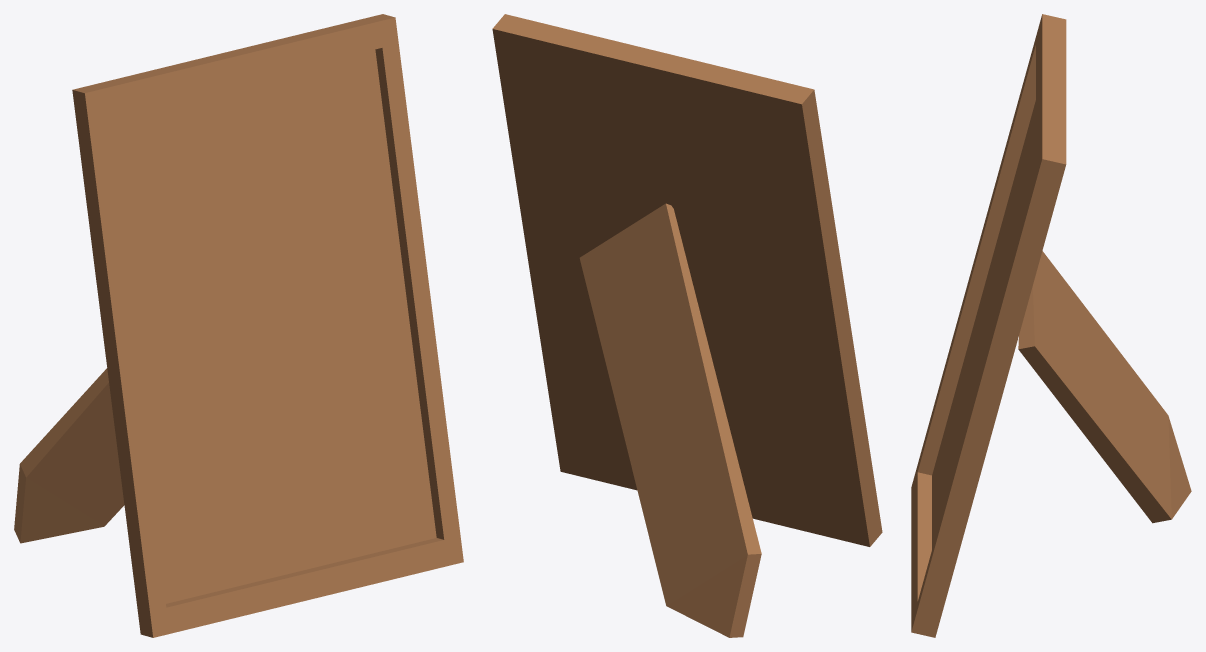
File: Retrato.fbx
3 views of the same model, side by side, from view 1: azimuth 30°, elevation 25°; view 2: azimuth 150°, elevation 25°; view 3: azimuth 270°, elevation 25° (orthographic). The views are drawn at different scales.
Parts seen in each view (by area): view 1: Retrato, suporte; view 2: Retrato, suporte; view 3: Retrato, suporte.
Part boxes in pixels (box(x1,y1,x2,y2)): Retrato: box(72, 14, 463, 637); suporte: box(14, 368, 124, 543); Retrato: box(492, 14, 882, 546); suporte: box(579, 203, 761, 637); Retrato: box(911, 14, 1066, 637); suporte: box(1018, 251, 1191, 523).
Size of the model in its own units: 18.62 by 28.43 by 15.07.
